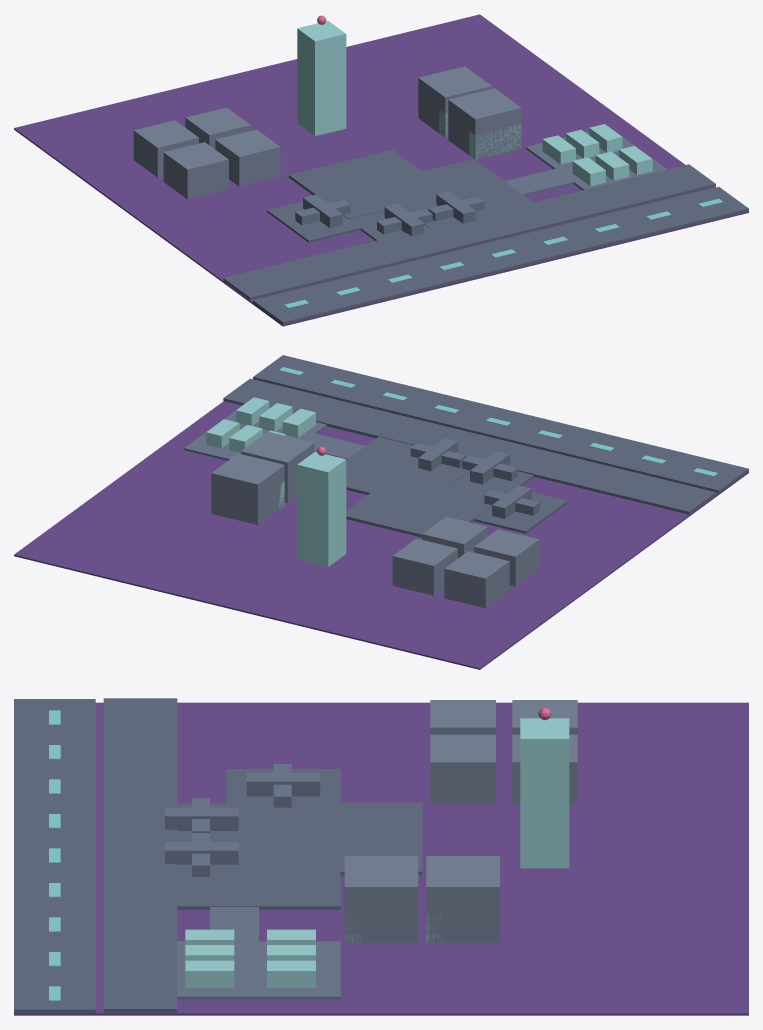
The model's file is stage_16.glb.
3 views of the same model, one above another, from view 1: azimuth 30°, elevation 25°; view 2: azimuth 150°, elevation 25°; view 3: azimuth 270°, elevation 25° (orthographic). The views are drawn at different scales.
Parts seen in each view (by area): view 1: geometry_0; view 2: geometry_0; view 3: geometry_0.
Boxes of the visible parts, <box> form: geometry_0: <box>14,14,748,326</box>; geometry_0: <box>14,355,748,669</box>; geometry_0: <box>14,698,748,1015</box>.
Bounding box in the file's own units: 9 × 2.06 × 9.
